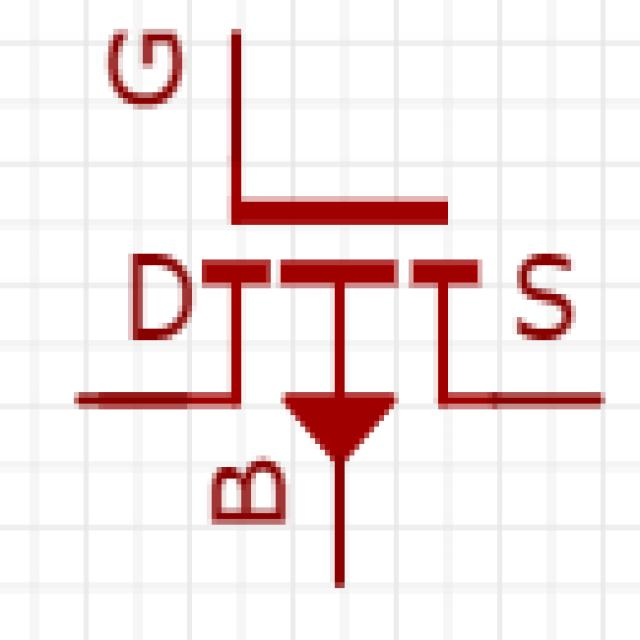pmos: (68, 8, 632, 594)
